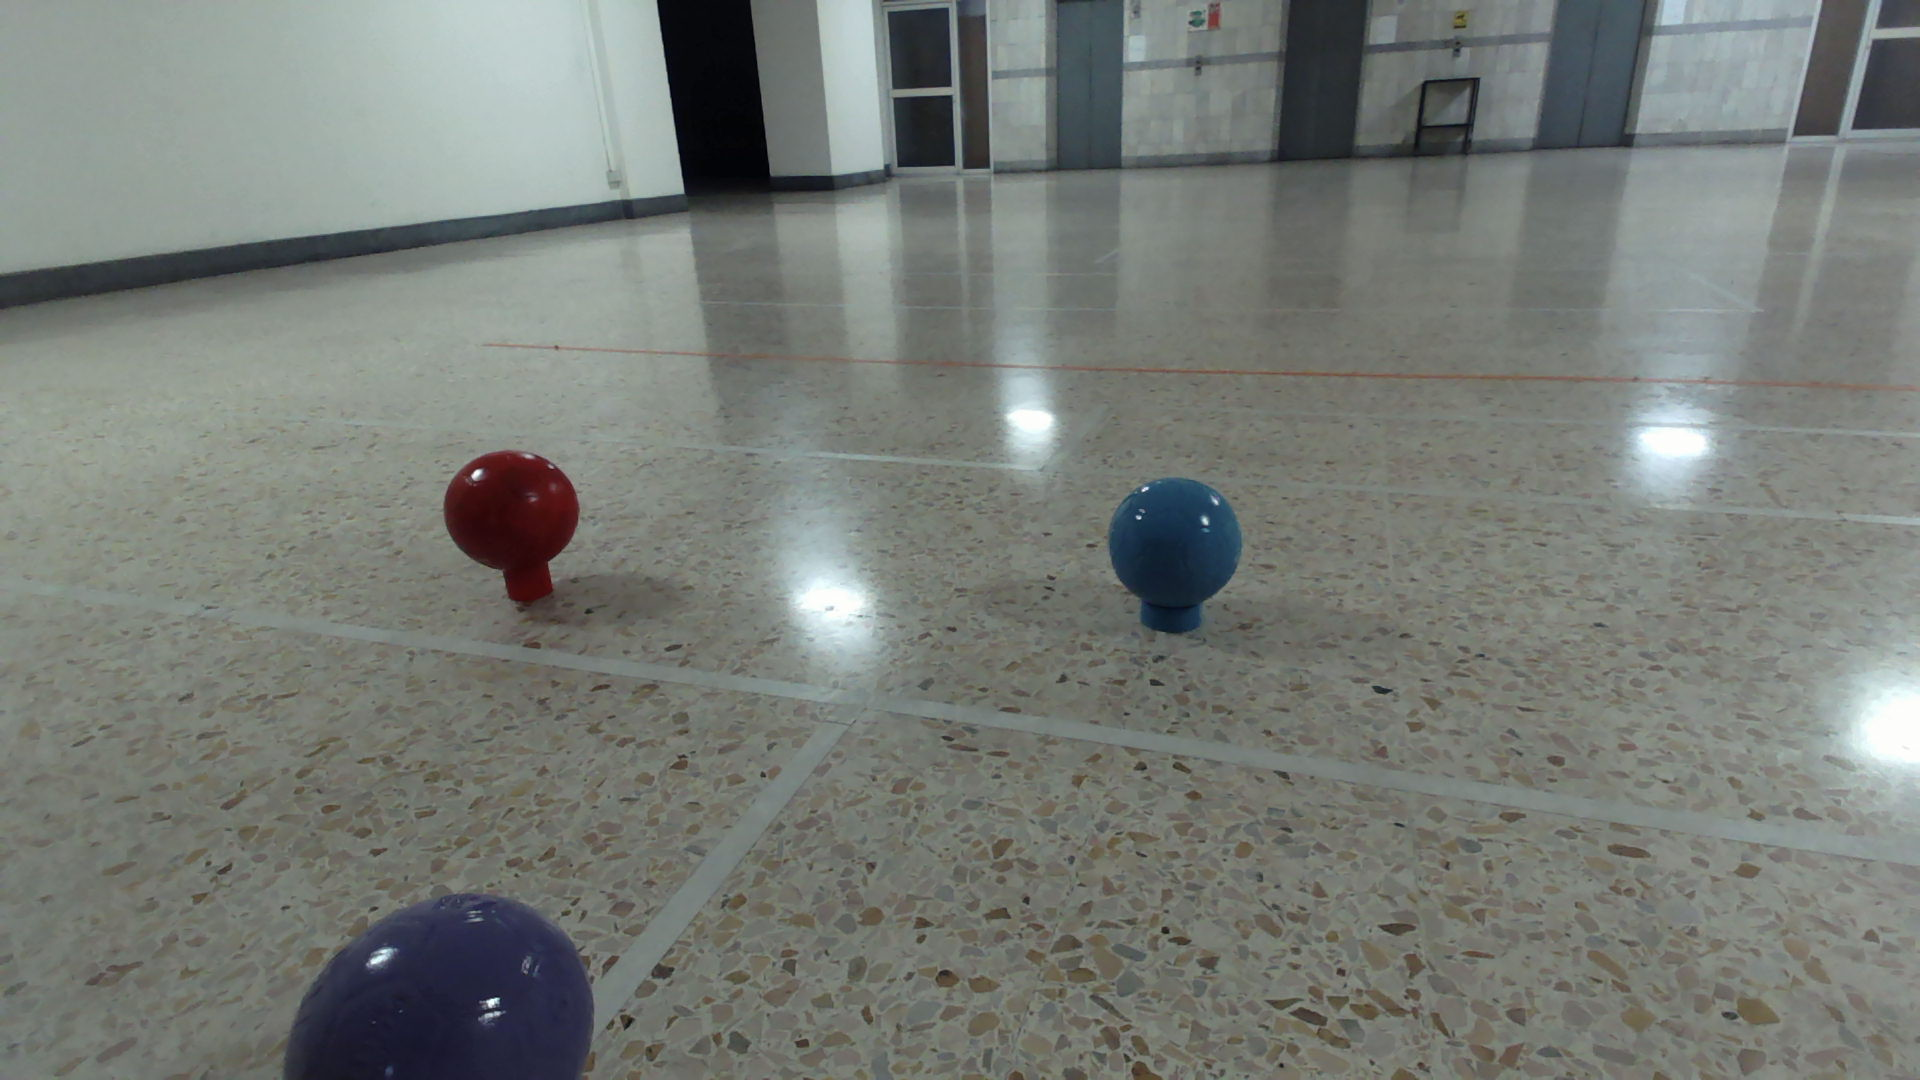Blue ball: (1102, 473, 1245, 607)
Purple ball: (277, 884, 604, 1080)
Red ball: (440, 448, 582, 574)
